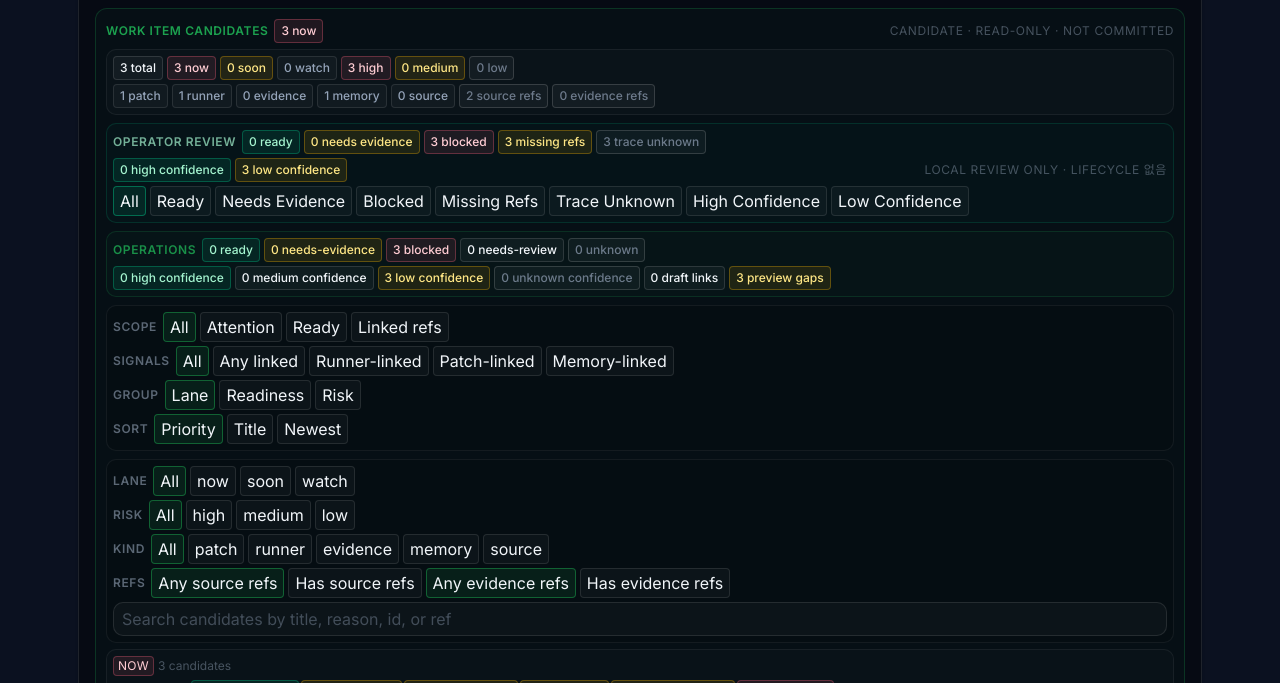
it: E19 — WorkItem Candidate signal navigation › filters candidate board rows by runner, patch, memory, or any linked signal
(page scrolled)
Click the button with test id "wic-filter-signal-runner" at (369, 360), box [309,346,428,376]
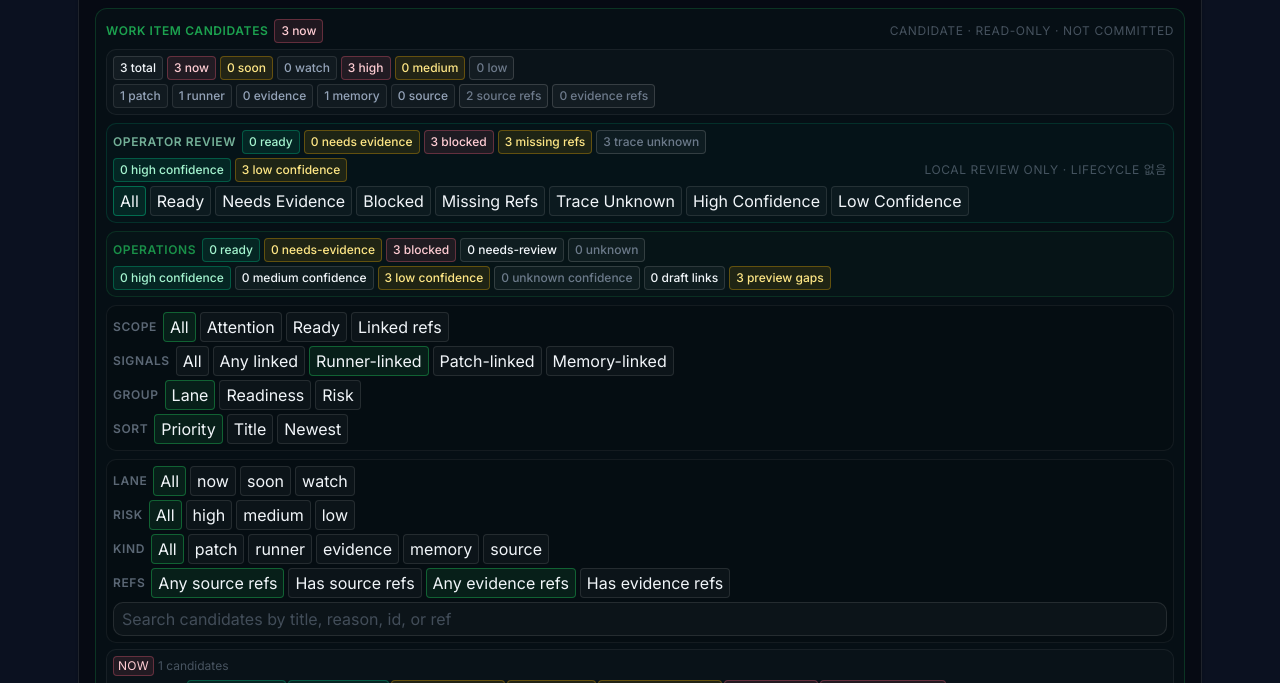
Click the button with test id "wic-filter-signal-patch" at (487, 360), box [432,346,542,376]
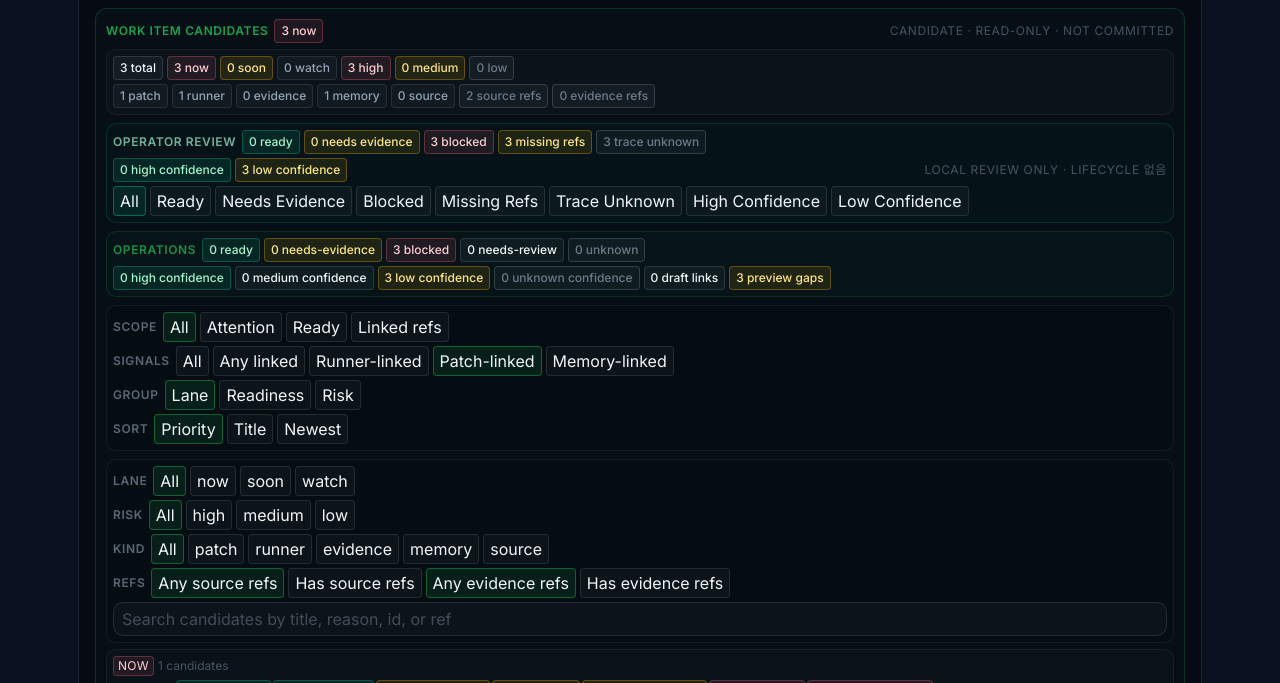
Click the button with test id "wic-filter-signal-memory" at (610, 360), box [546,346,674,376]
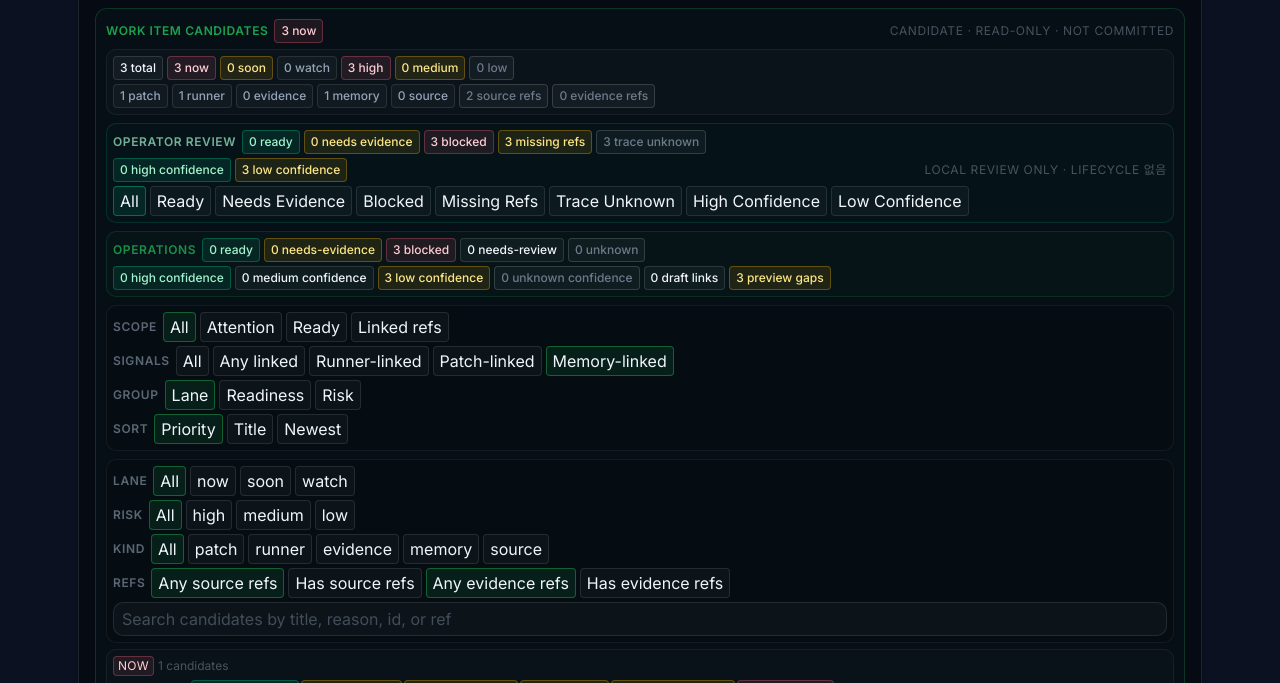
Click the button with test id "wic-filter-signal-any" at (259, 360), box [212,346,305,376]
(page scrolled)
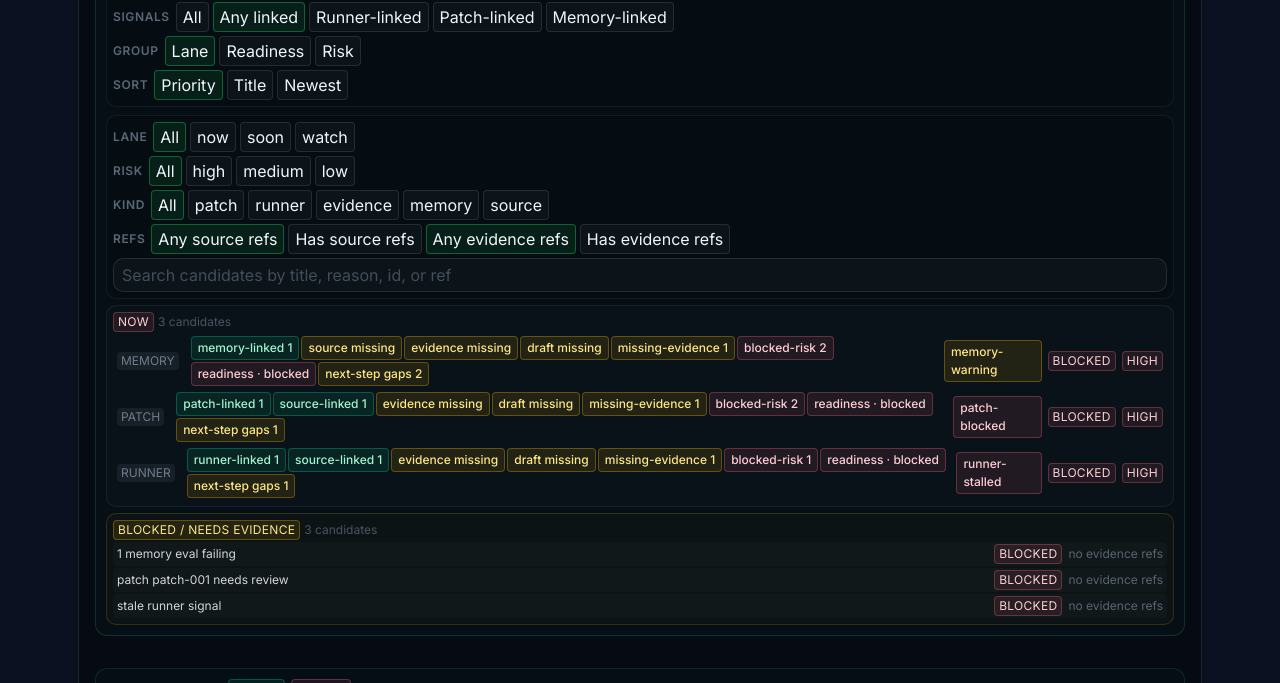
Expected: the button with test id "wic-row-wic-memory-eval-fail" is shown, [113,334,1167,388]
Expected: the button with test id "wic-row-wic-runner-runner-stale" is shown, [113,446,1167,500]
Expected: the button with test id "wic-row-wic-patch-patch-001" is shown, [113,390,1167,444]
